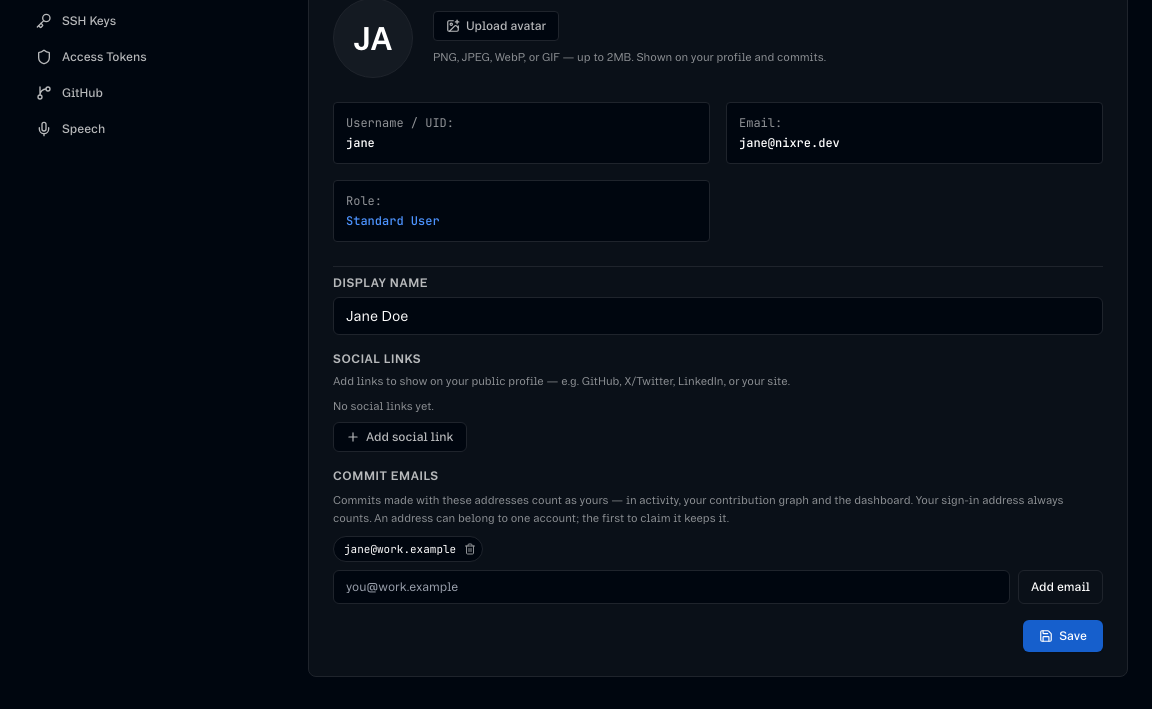
Test: Settings › lists, adds and surfaces a rejected commit email
The image size is (1152, 709).
(page scrolled)
Expected: the text "jane@work.example" is shown, [333,536,483,562]
Step 1. Type "taken@x.dev" into the field named "Commit email" → (672, 587), box [333,570,1010,604]
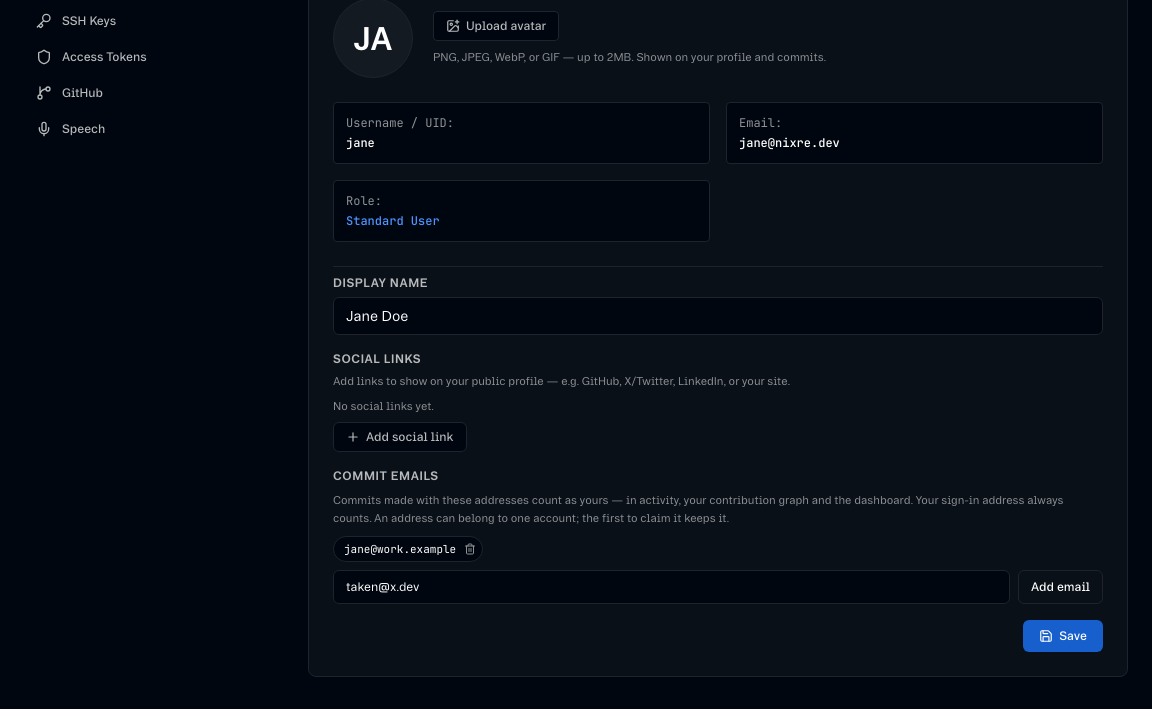
Step 2. Click the button "Add email" → (1060, 587), box [1018,570,1103,604]
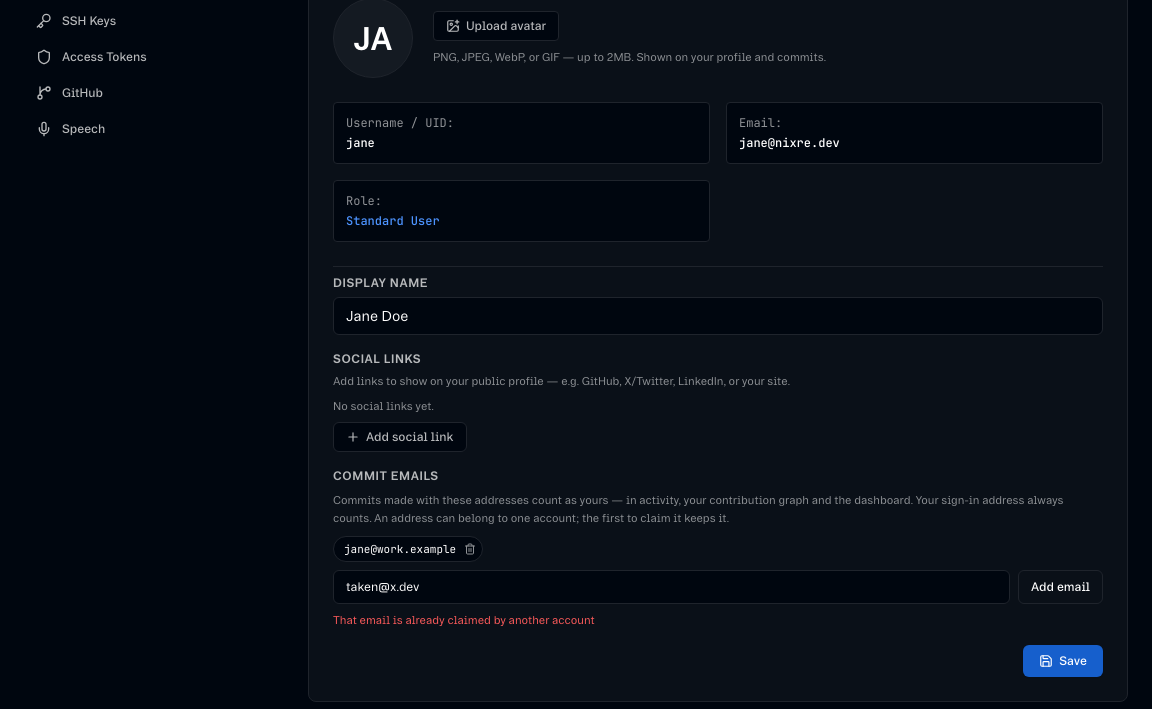
Now the text "That email is already claimed by another account" is shown, box [333,614,595,626]
Step 3. Replace the text in the field named "Commit email" with "new@x.dev" → (672, 587), box [333,570,1010,604]
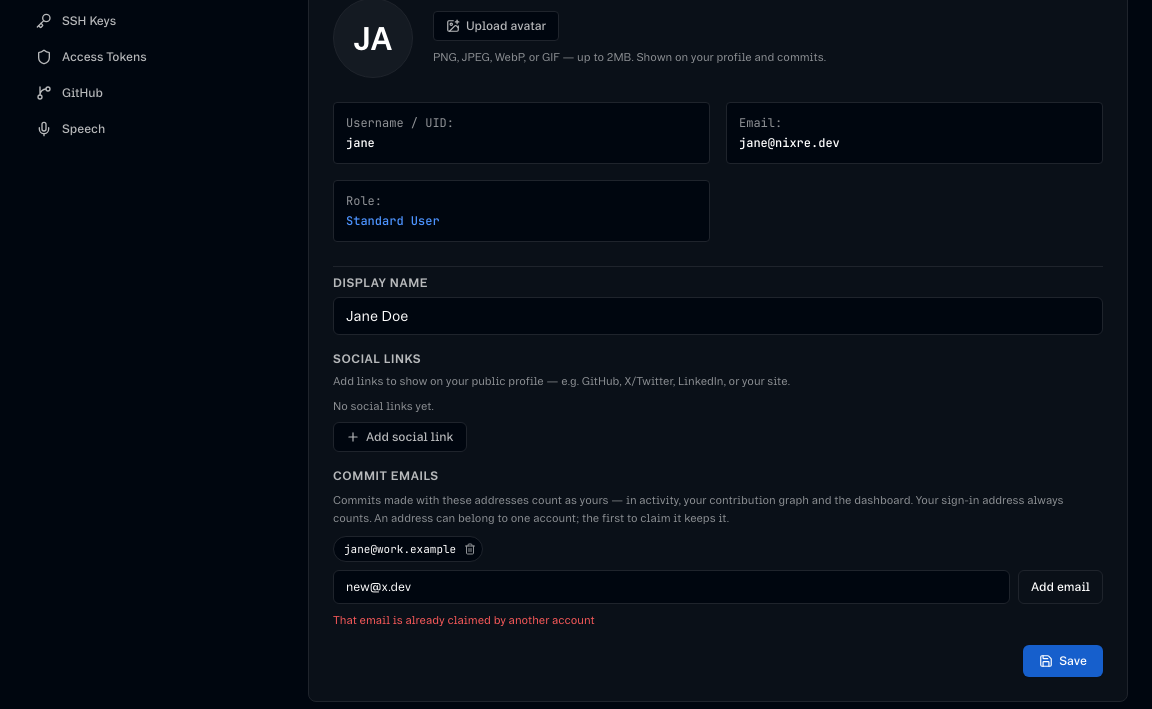
Step 4. Click the button "Add email" → (1060, 587), box [1018,570,1103,604]
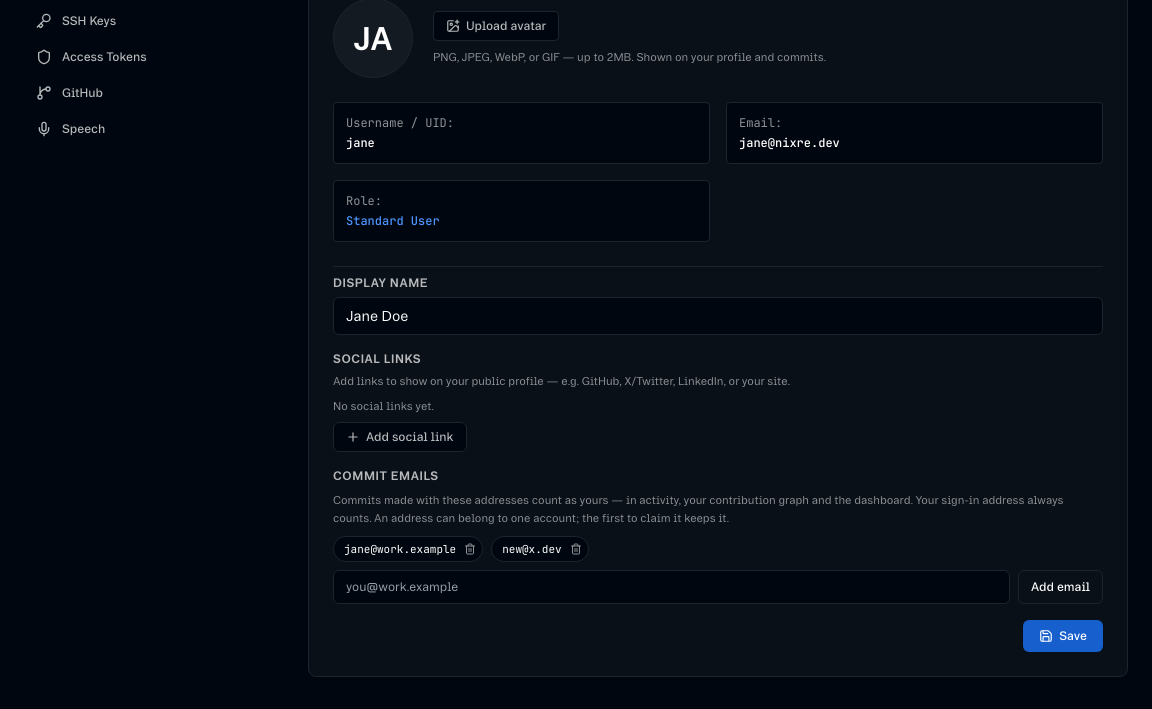
Now the text "new@x.dev" is shown, box [491,536,589,562]
